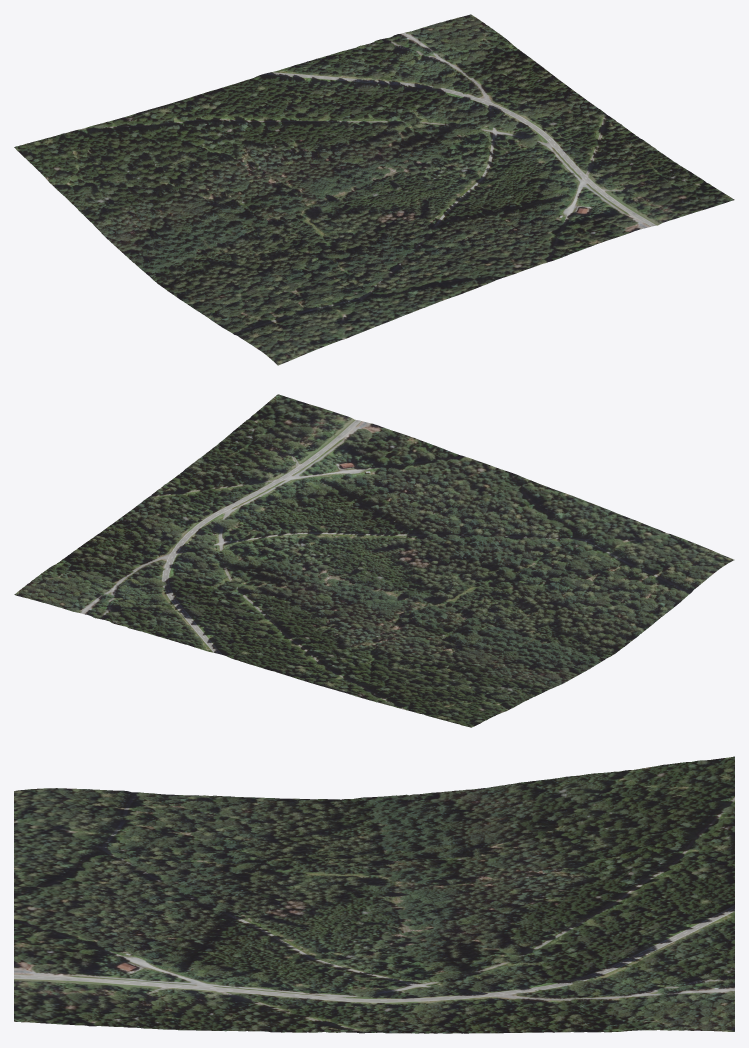
Rendered from terrain_2_0.glb.
3 renders of one model, top to bottom at view 1: azimuth 30°, elevation 25°; view 2: azimuth 150°, elevation 25°; view 3: azimuth 270°, elevation 25°, orthographic. The views are drawn at different scales.
Visible parts, largest first — view 1: geometry_0; view 2: geometry_0; view 3: geometry_0.
Boxes of the visible parts, x1,y1,x2,y2 form: geometry_0: [14, 14, 734, 365]; geometry_0: [14, 394, 734, 727]; geometry_0: [14, 756, 734, 1033].
Size of the model in its own units: 499 by 62.99 by 499.
1 material, 1 textured.
